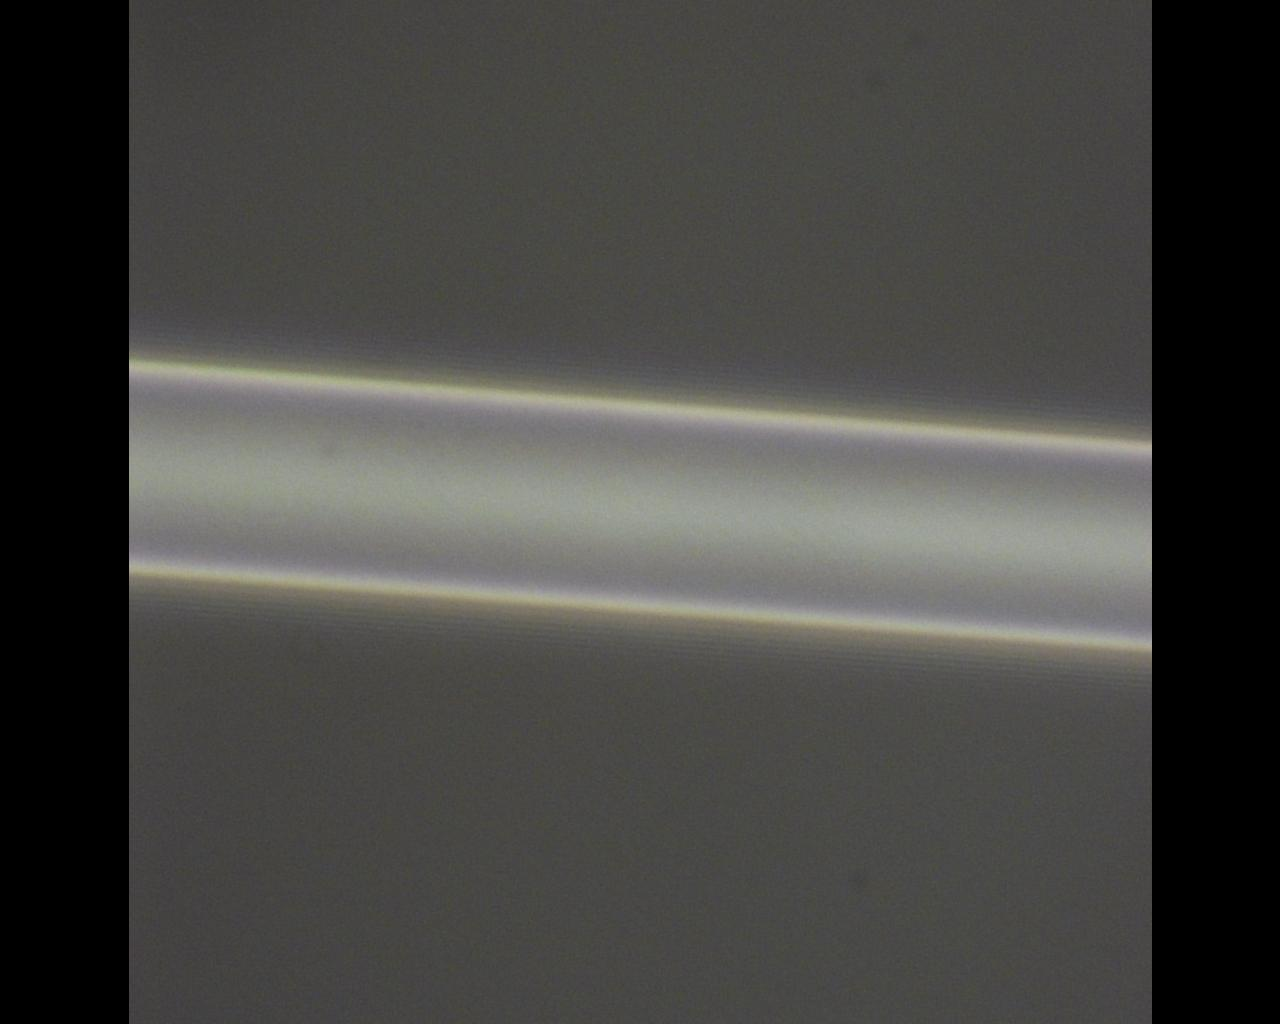fiber: (127, 356, 1151, 654)
